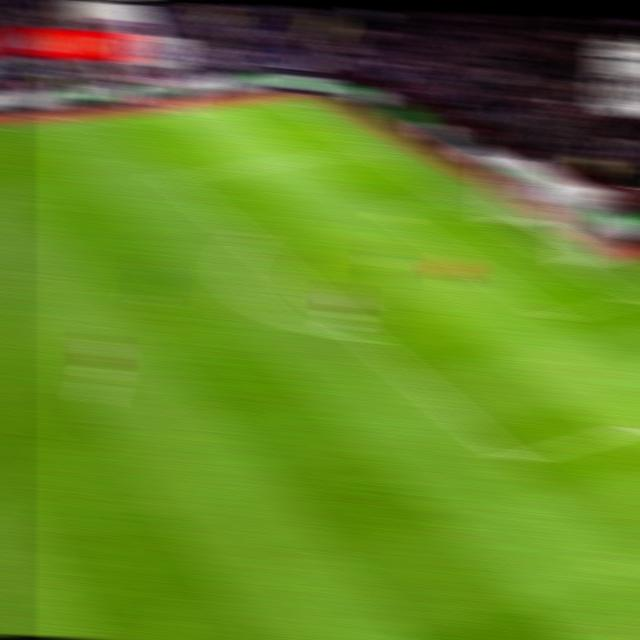bigarea_bottom_inner: (493, 446, 531, 473)
bigarea_top_inner: (154, 167, 187, 186)
bigarea_top_outter: (351, 140, 384, 158)
bottom_arc_area_intersection: (351, 327, 384, 349)
corner: (267, 92, 302, 106)
smallarea_bottom_inner: (537, 303, 573, 329)
smallarea_bottom_outter: (612, 286, 640, 309)
smallarea_top_inner: (366, 198, 400, 215)
smallarea_top_outter: (432, 187, 465, 205)
top_arc_area_intersection: (232, 231, 264, 248)
